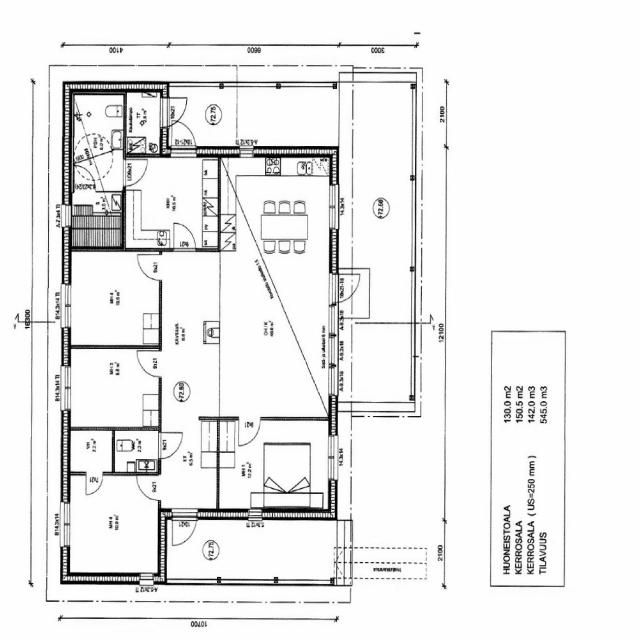door: (169, 510, 199, 549), (134, 347, 163, 379), (156, 429, 184, 461), (135, 250, 162, 282), (122, 156, 149, 188), (335, 270, 362, 302), (170, 122, 198, 152), (171, 220, 197, 252), (236, 416, 262, 448), (134, 473, 160, 502), (166, 96, 189, 127), (84, 471, 105, 498)
window: (218, 572, 274, 588), (325, 432, 339, 484), (168, 574, 218, 588), (326, 181, 339, 233), (60, 498, 73, 550), (62, 363, 74, 414), (62, 281, 74, 331), (326, 304, 337, 338), (326, 336, 338, 366), (327, 363, 337, 398), (136, 570, 156, 586), (246, 507, 264, 523), (237, 145, 257, 159), (63, 204, 72, 228)
zone: (219, 150, 332, 418), (164, 510, 353, 585), (159, 252, 220, 423), (219, 421, 334, 508), (66, 472, 160, 578), (67, 250, 161, 348), (125, 154, 218, 248), (67, 348, 161, 431), (70, 92, 124, 188), (68, 189, 120, 248), (124, 90, 164, 156), (113, 429, 160, 474), (68, 428, 114, 472)
